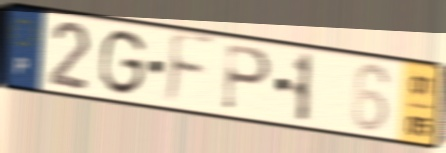1: (290, 50, 316, 128)
2: (48, 19, 93, 94)
6: (349, 62, 396, 135)
F: (162, 29, 218, 110)
G: (96, 27, 149, 99)
P: (220, 41, 275, 115)
